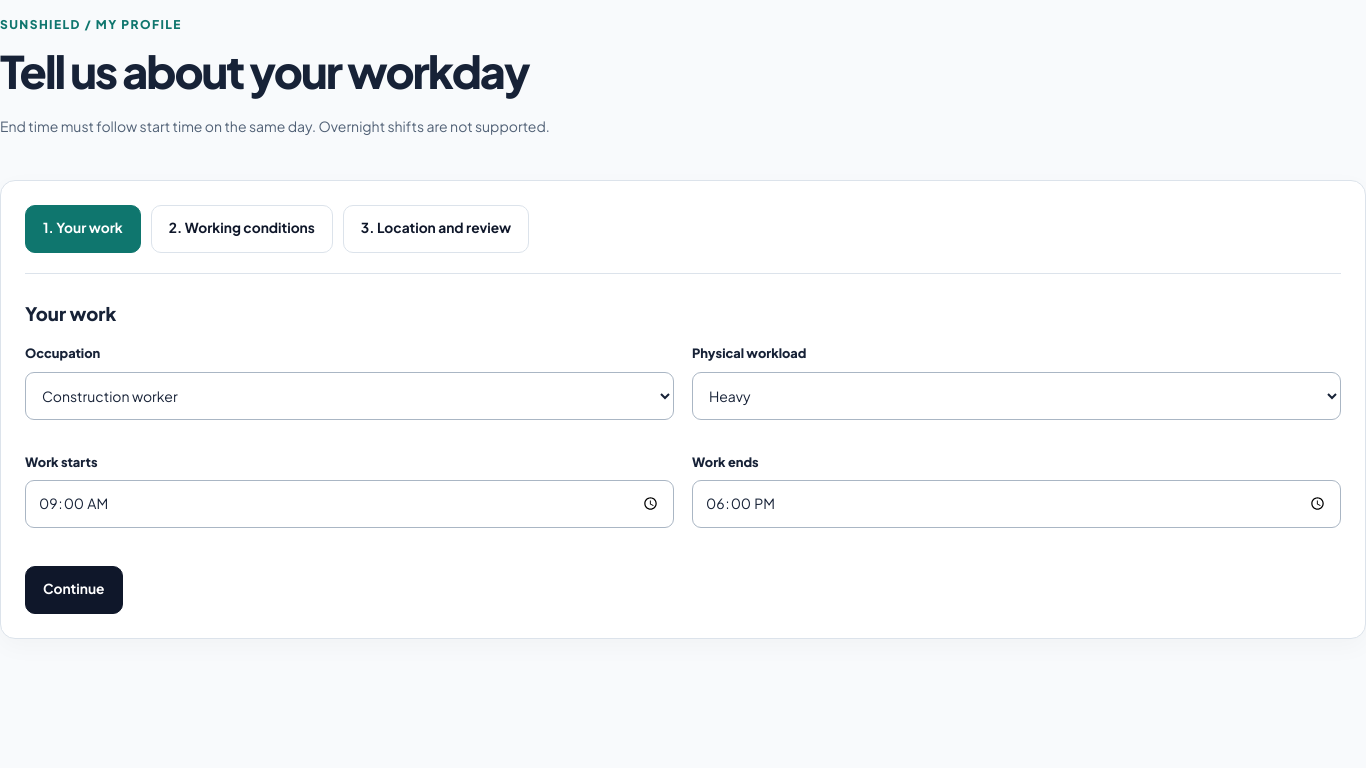
Test case: browser capability recovery › completes profile setup in memory when saving browser storage is blocked
This screenshot has width=1366, height=768.
Click the button "Continue". click: (74, 590)
box: [25, 566, 122, 614]
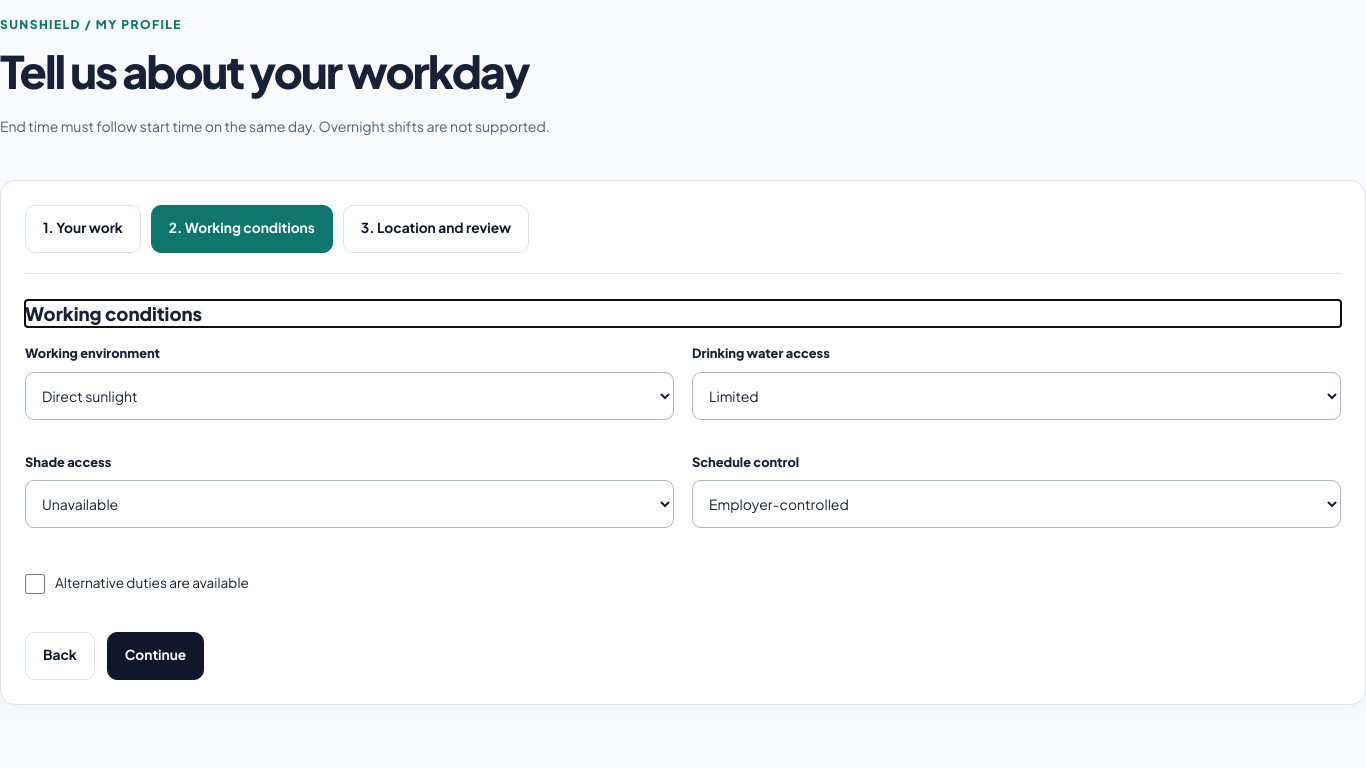
Click the button "Continue". click: (156, 656)
box: [107, 632, 204, 680]
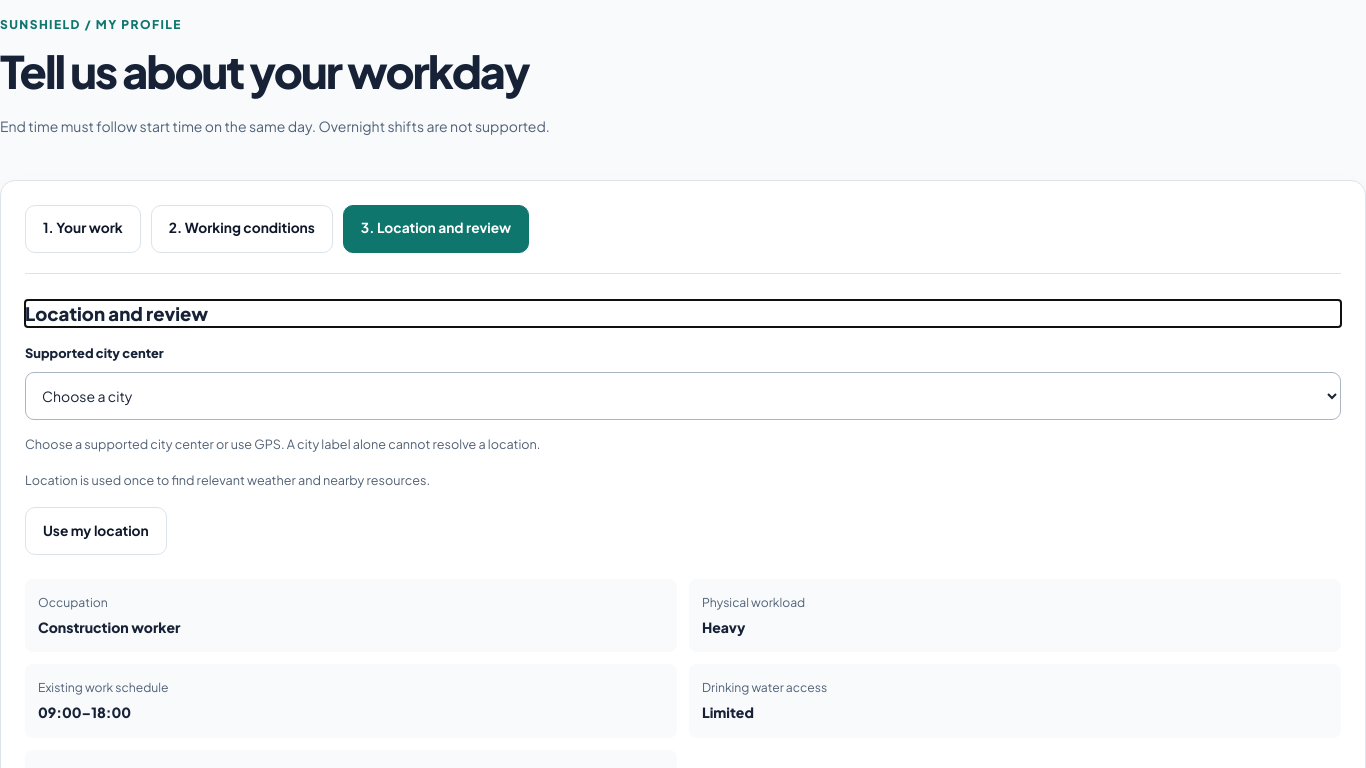
Select "Mumbai" in the dropdown labelled "Supported city center". click: (683, 396)
box: [25, 372, 1341, 420]
(page scrolled)
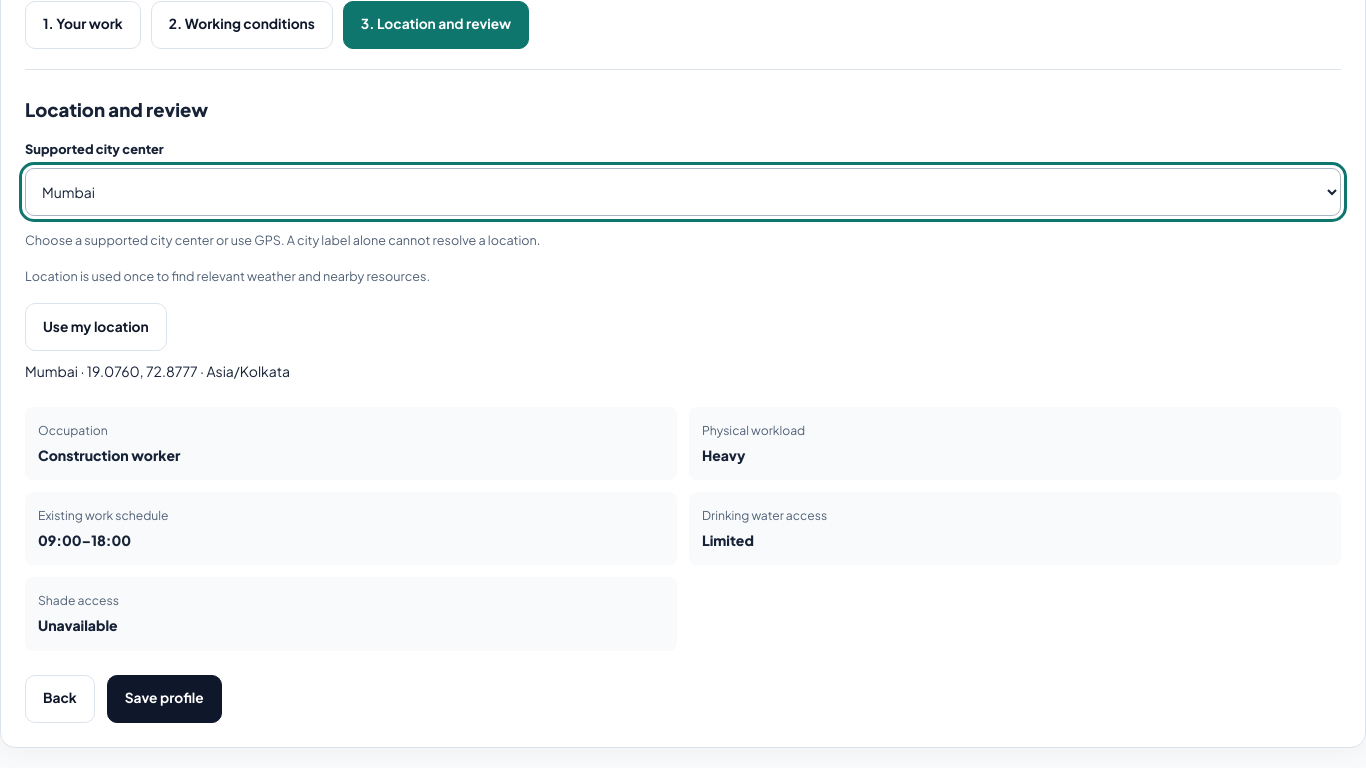
Click the button "Save profile". click: (164, 699)
box: [107, 675, 222, 723]
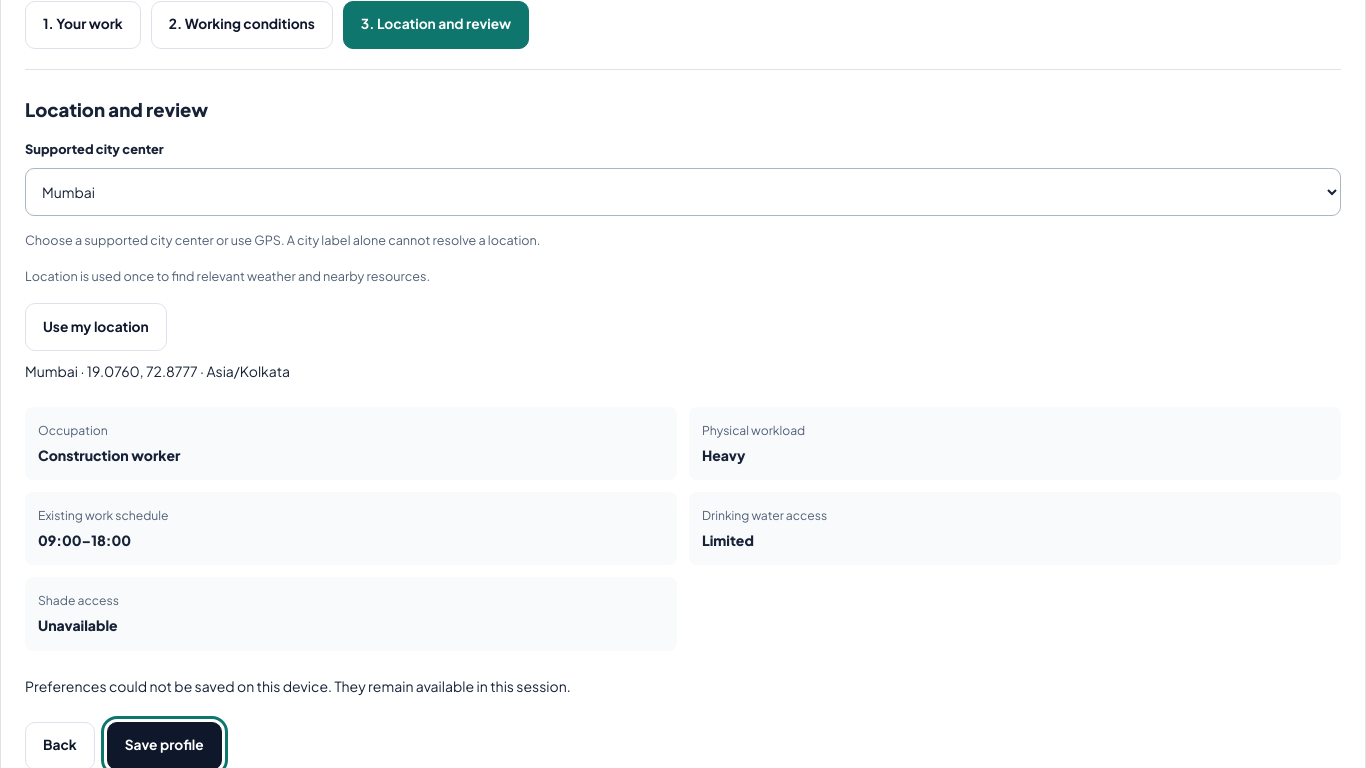
Expected: the text "Preferences could not be saved on this device" is shown, [25, 677, 571, 695]
